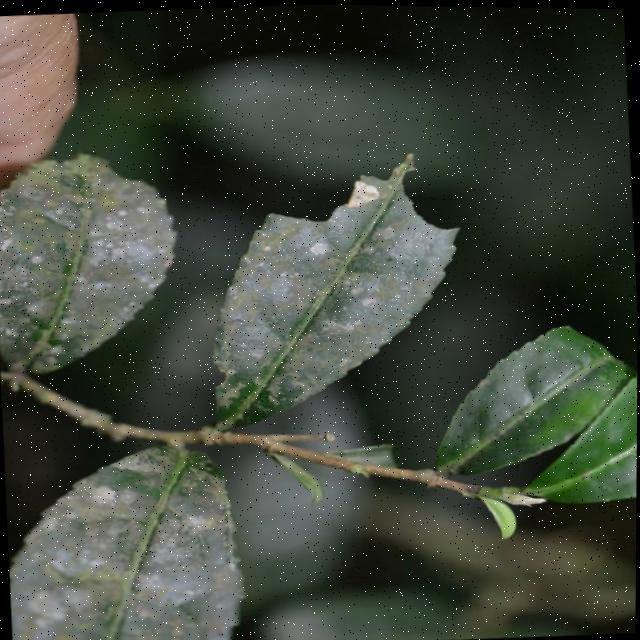Tea algae leaf spot: (191, 183, 455, 386), (36, 449, 246, 635), (6, 153, 171, 363)
